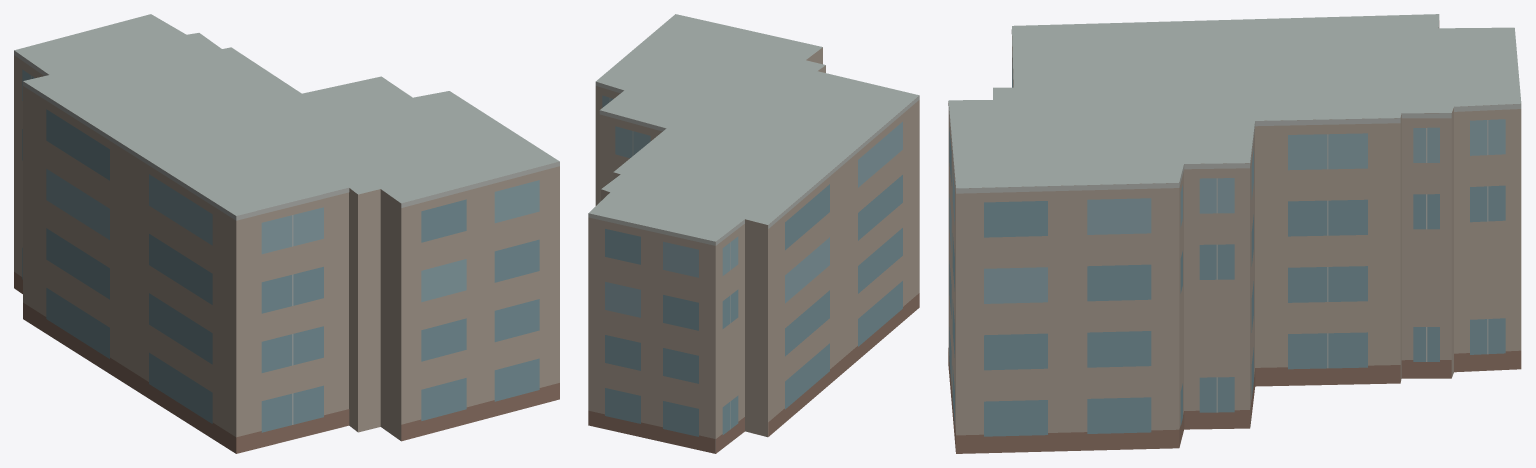
Rendered from survey-upis-32616715.glb.
3 views of the same model, side by side, from view 1: azimuth 30°, elevation 25°; view 2: azimuth 150°, elevation 25°; view 3: azimuth 270°, elevation 25° (orthographic). The views are drawn at different scales.
Visible parts, largest first — view 1: survey-upis-32616715.tmp; view 2: survey-upis-32616715.tmp; view 3: survey-upis-32616715.tmp.
Part boxes in pixels (x1,y1,x2,y2): survey-upis-32616715.tmp: (14,14,559,453); survey-upis-32616715.tmp: (588,14,919,453); survey-upis-32616715.tmp: (948,14,1521,453).
Bounding box in the file's own units: 17.49 × 12.4 × 24.26.
